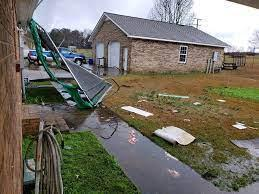affected: (90, 6, 244, 70)
